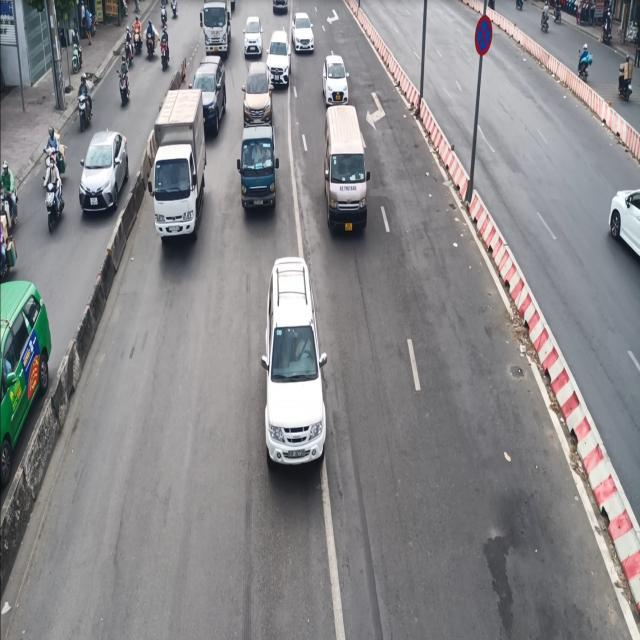car: (260, 255, 328, 467), (322, 103, 370, 235), (607, 188, 639, 262)
truck: (140, 88, 206, 241)
